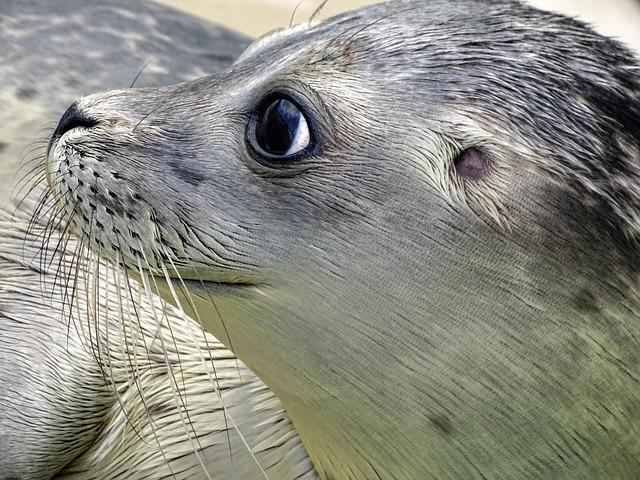Non_Gorille: (29, 0, 640, 480)
